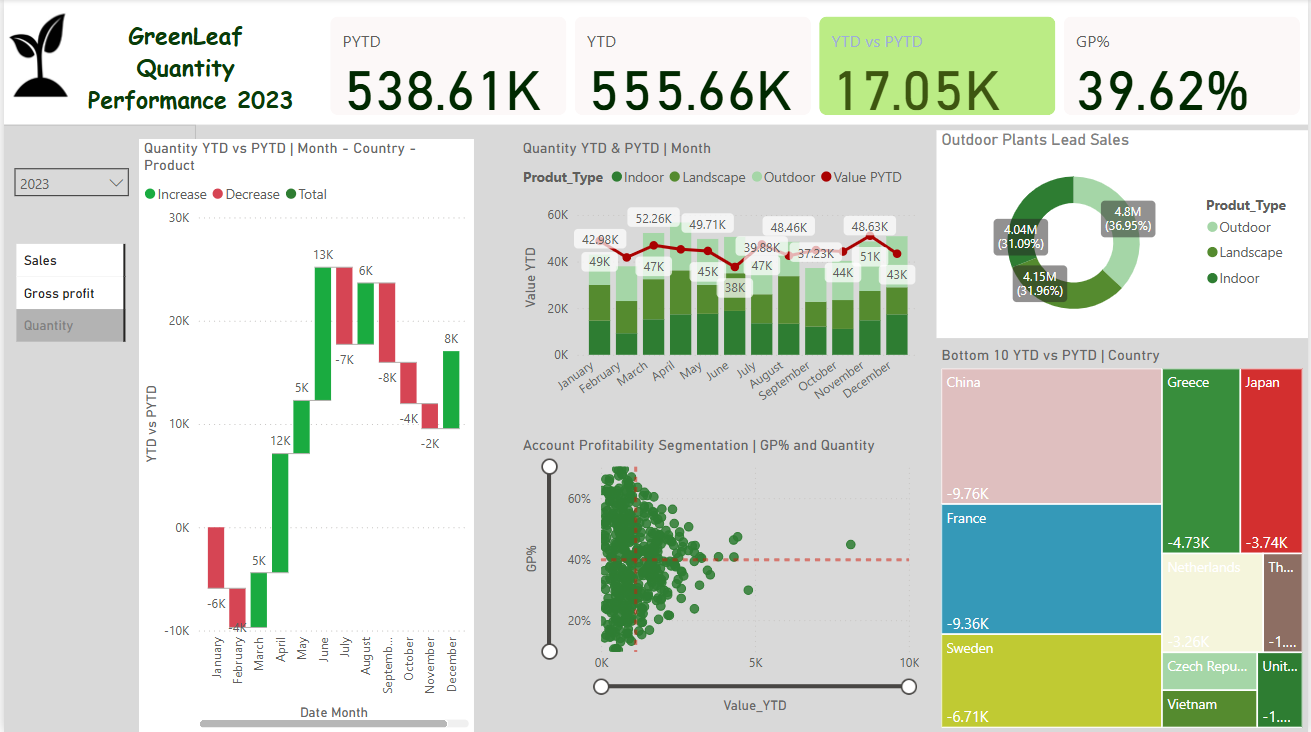

Layout of this report page (visuals, bound fields, positions):
{"tool":"powerbi","page":{"name":"GreenLeaf Performance Dashboard","canvas":[1280,720],"ordinal":0},"visuals":[{"type":"cardVisual","fields":{"Data":["_Measures.S_PYTD","_Measures.S_YTD","_Measures.YTD vs PYTD","_Measures.GP%"]},"box":[315.3,12.3,964.4,108],"z":0},{"type":"advancedSlicerVisual","fields":{"Values":["Metric_Selector.Values"]},"box":[7.4,235.6,117.8,108],"z":1000},{"type":"slicer","fields":{"Values":["Date_Dimension.Date.Variation.Date Hierarchy.Year"]},"box":[0,155.8,132.5,79.8],"z":2000},{"type":"treemap","title":"Bottom 10 YTD vs PYTD | Country","fields":{"Values":["_Measures.YTD vs PYTD"],"Group":["Plant_Accounts.country"]},"box":[915.3,341.1,364.4,379.1],"z":3000},{"type":"waterfallChart","fields":{"Y":["_Measures.YTD vs PYTD"],"Category":["Date_Dimension.Date.Variation.Date Hierarchy.Month","Plant_Accounts.country","Product_Catalog.Produt_Type","Product_Catalog.Product_Name"]},"box":[132.5,137.4,328.8,582.8],"z":4000},{"type":"lineStackedColumnComboChart","fields":{"Y":["_Measures.S_YTD"],"Y2":["_Measures.S_PYTD"],"Category":["Date_Dimension.Date.Variation.Date Hierarchy.Quarter","Date_Dimension.Date.Variation.Date Hierarchy.Month"],"Series":["Product_Catalog.Produt_Type"]},"box":[504.3,137.4,398.8,279.8],"z":5000},{"type":"scatterChart","fields":{"Y":["_Measures.GP%"],"X":["_Measures.S_YTD"],"Category":["Plant_Accounts.Account"]},"box":[504.3,429.5,398.8,276.1],"z":6000},{"type":"card","fields":{"Values":["_Measures._Report title"]},"box":[77.3,0,212.3,120.2],"z":7000},{"type":"donutChart","title":"Outdoor Plants Lead Sales","fields":{"Category":["Product_Catalog.Produt_Type"],"Y":["Sum(Fact_Sales.Sales_USD)"]},"box":[915.3,128.8,364.4,203.7],"z":8000}]}

Visuals, with their boxes in screenshot pixels (x1, y1, x2, y2), scaled from the page's 1280x720 canvas onto the 1311x732 screenshot:
cardVisual - _Measures.S_PYTD x _Measures.S_YTD: <box>323,13,1310,122</box>
advancedSlicerVisual - Metric_Selector.Values: <box>8,240,128,349</box>
slicer - Date_Dimension.Date.Variation.Date Hierarchy.Year: <box>0,158,136,240</box>
"Bottom 10 YTD vs PYTD | Country" treemap: <box>937,347,1310,731</box>
waterfallChart - _Measures.YTD vs PYTD x Date_Dimension.Date.Variation.Date Hierarchy.Month: <box>136,140,472,731</box>
lineStackedColumnComboChart - _Measures.S_YTD x _Measures.S_PYTD: <box>517,140,925,424</box>
scatterChart - _Measures.GP% x _Measures.S_YTD: <box>517,437,925,717</box>
card - _Measures._Report title: <box>79,0,297,122</box>
"Outdoor Plants Lead Sales" donutChart: <box>937,131,1310,338</box>
